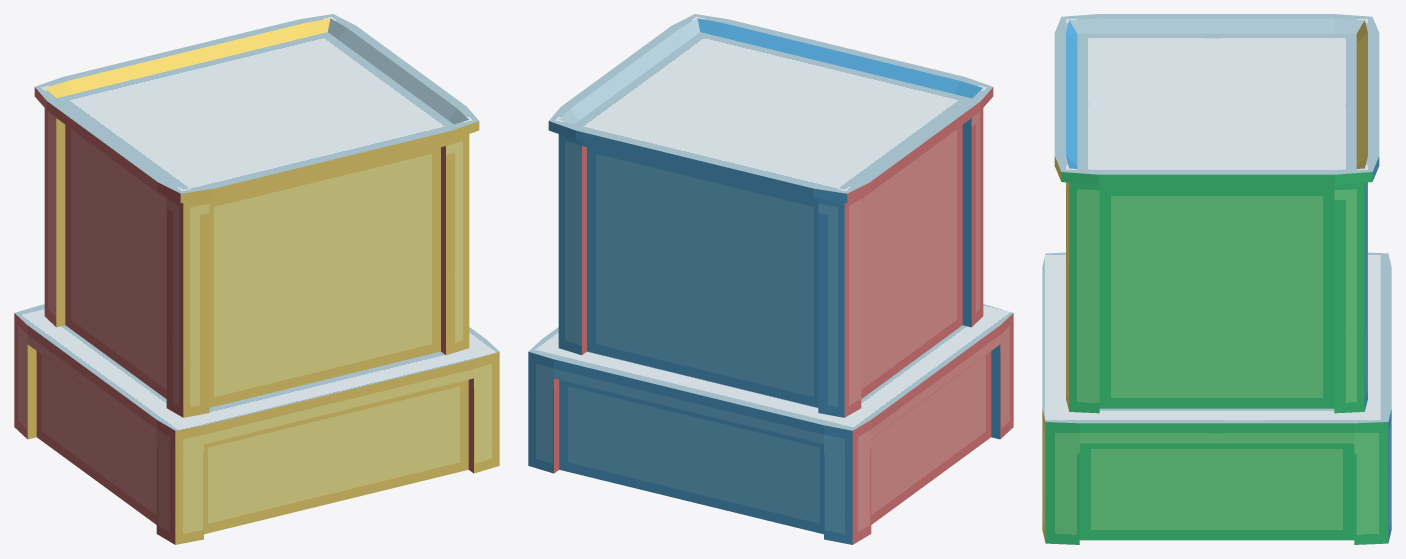
Rendered from medium_building.gltf.
The picture shows the model from 3 angles, left to right: view 1: azimuth 30°, elevation 25°; view 2: azimuth 150°, elevation 25°; view 3: azimuth 270°, elevation 25°; orthographic projection. The views are drawn at different scales.
Parts seen in each view (by area): view 1: cuboid; view 2: cuboid; view 3: cuboid.
Part boxes in pixels (box(x1,y1,x2,y2)): cuboid: box(14, 14, 499, 544); cuboid: box(528, 14, 1013, 544); cuboid: box(1042, 14, 1391, 544).
Size of the model in its own units: 2.27 by 2.25 by 1.95.
1 material, 1 textured.
